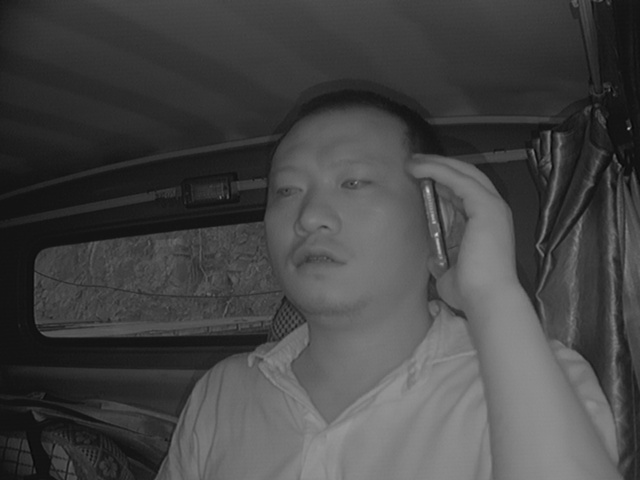hand: (404, 147, 519, 303)
